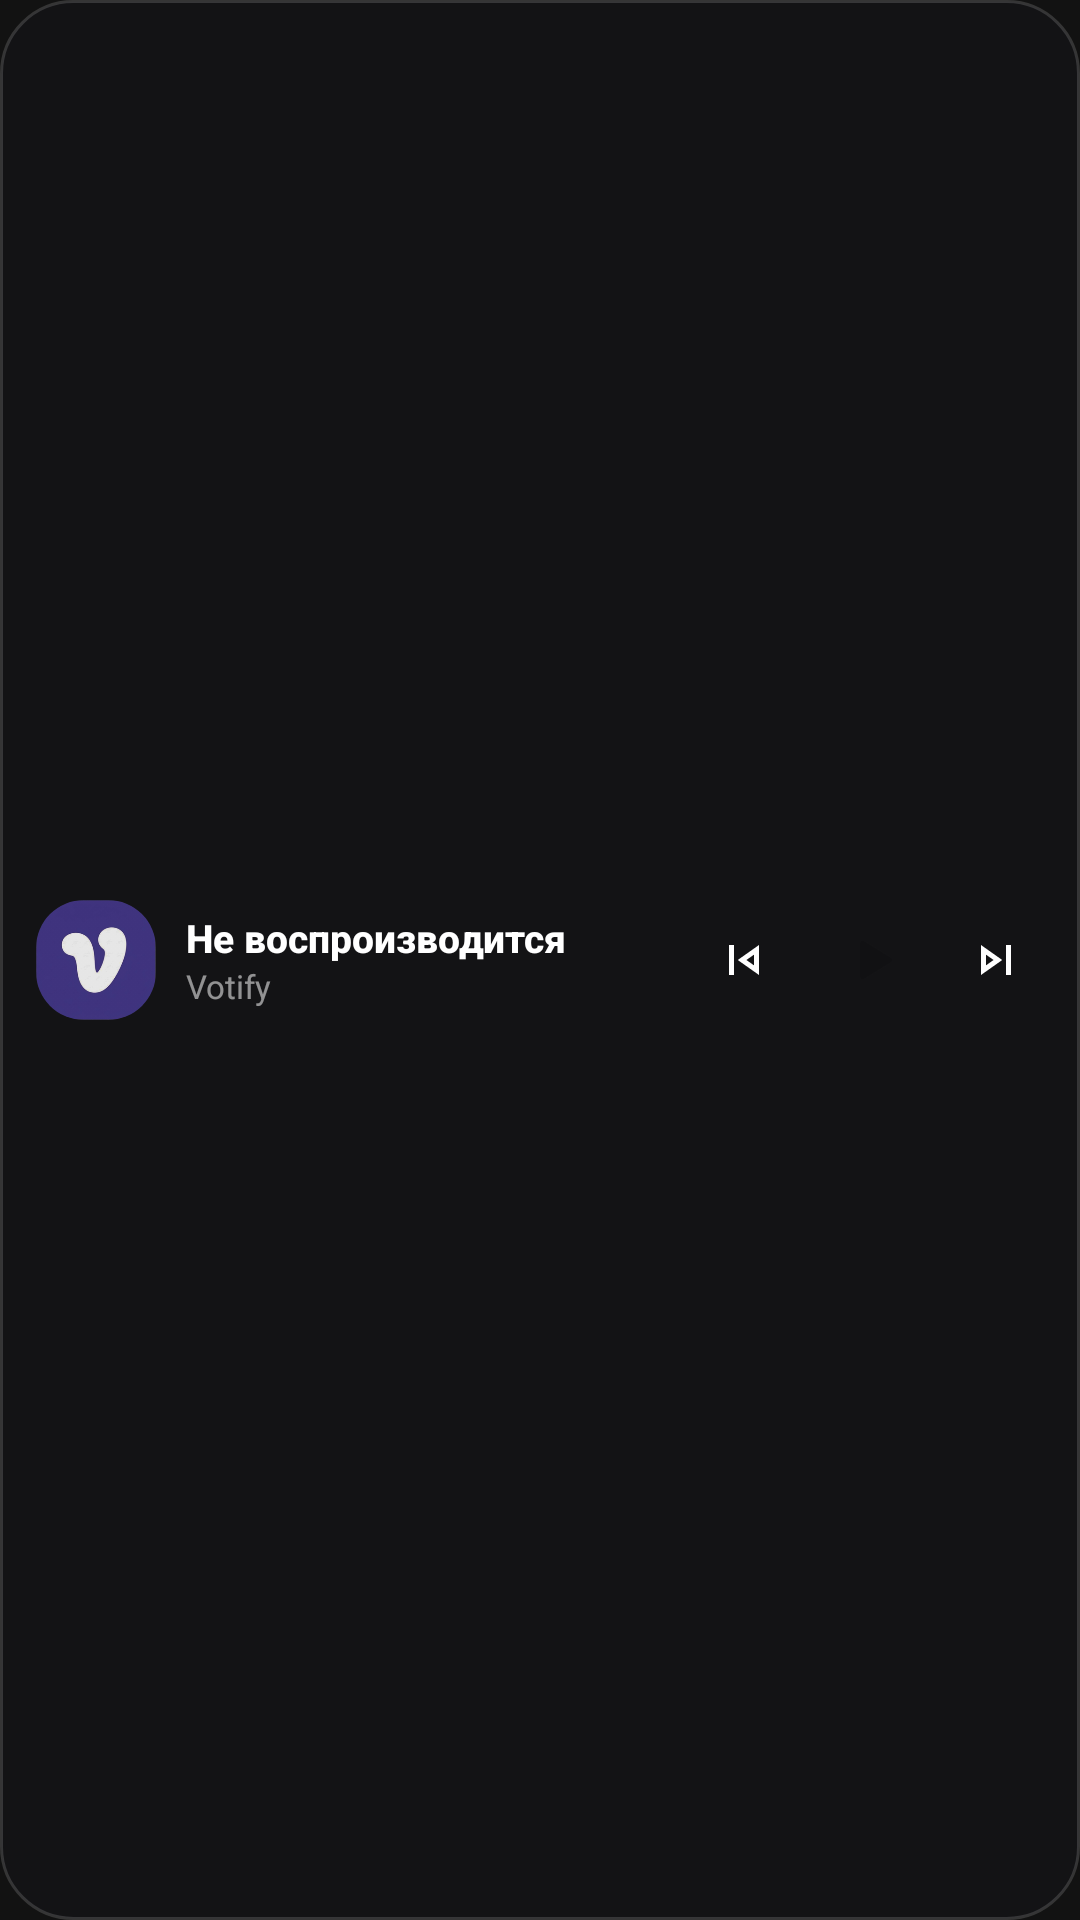

Icon click points for this 1080 x 1920 phone screenshot, format [x,y]:
widget skip next: [996,960]
widget skip previous: [744,960]
